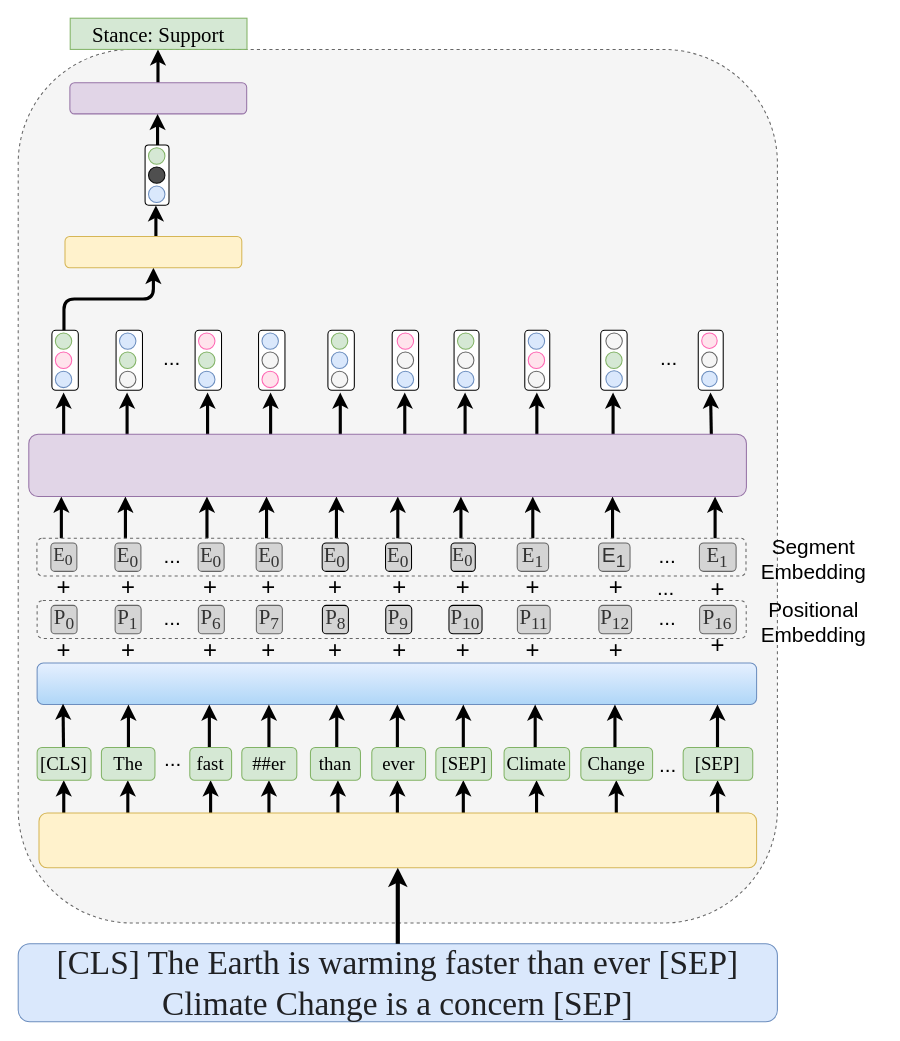
The diagram is 900 pixels wide and 1041 high, and some of its shapes have lost their labels. The centre of each missing label's shape, as x and y in pixels:
"(Transformer Encoder Layers) X 12" belongs at point 387,465.
"Bert Tokenizer (Word Piece)" belongs at point 397,840.
"Dropout" belongs at point 153,252.
"Embedding Table Lookup" belongs at point 396,683.
"MLP (Classifier)" belongs at point 158,98.
